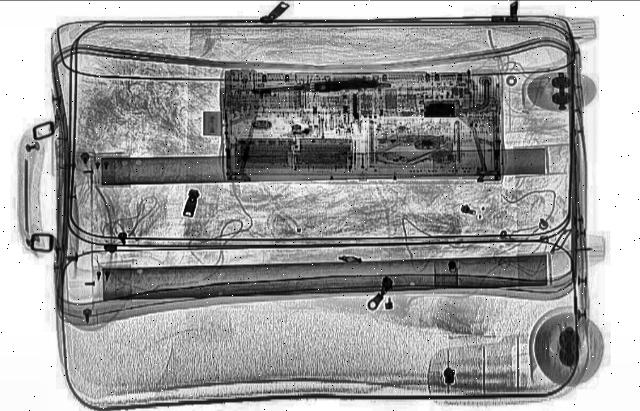Gun: (248, 75, 392, 99)
